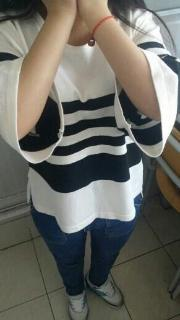long sleeve top: (0, 2, 180, 234)
trousers: (29, 181, 142, 296)
